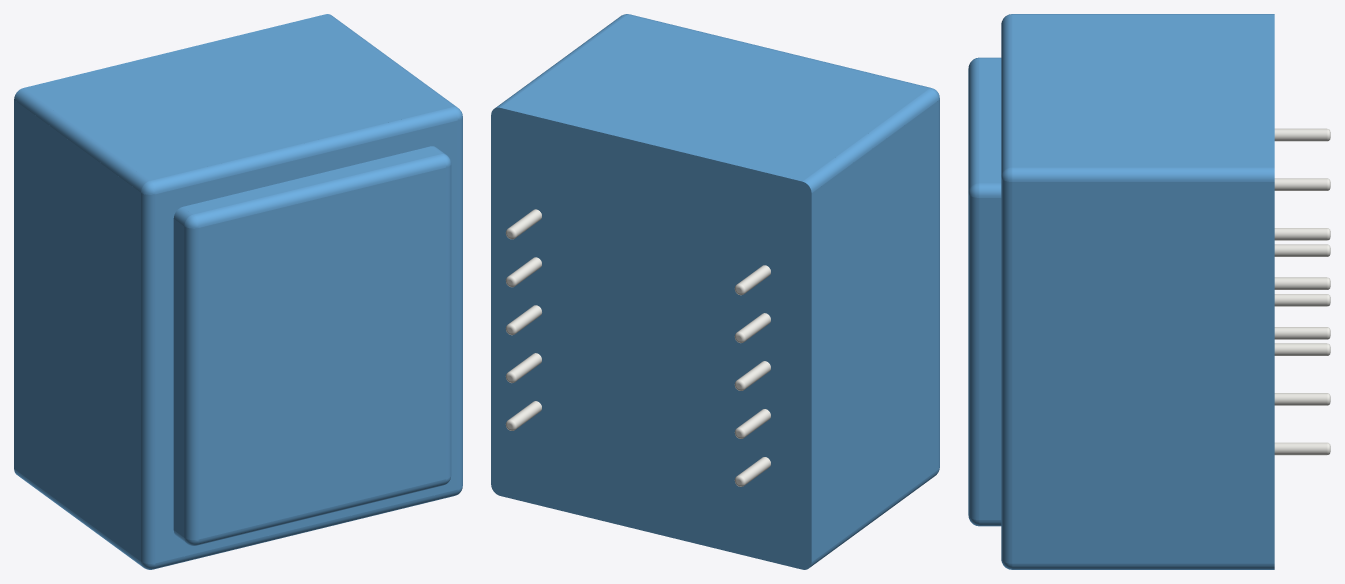
File: Transformer_CHK_EI38-3VA_Neutral.glb
3 views of the same model, side by side, from view 1: azimuth 30°, elevation 25°; view 2: azimuth 150°, elevation 25°; view 3: azimuth 270°, elevation 25° (orthographic). The views are drawn at different scales.
Visible parts, largest first — view 1: Shape_IndexedFaceSet.043, Shape_IndexedFaceSet.069, Shape_IndexedFaceSet.066, Shape_IndexedFaceSet.047, Shape_IndexedFaceSet.056, Shape_IndexedFaceSet.050, Shape_IndexedFaceSet.054, Shape_IndexedFaceSet.049, Shape_IndexedFaceSet.057, Shape_IndexedFaceSet.059, Shape_IndexedFaceSet.073, Shape_IndexedFaceSet.053 (+4 smaller); view 2: Shape_IndexedFaceSet.072, Shape_IndexedFaceSet.069, Shape_IndexedFaceSet.066, Shape_IndexedFaceSet.073, Shape_IndexedFaceSet.056, Shape_IndexedFaceSet.074, Shape_IndexedFaceSet.054; view 3: Shape_IndexedFaceSet.063, Shape_IndexedFaceSet.066, Shape_IndexedFaceSet.052, Shape_IndexedFaceSet.053, Shape_IndexedFaceSet.070, Shape_IndexedFaceSet.045, Shape_IndexedFaceSet.059, Shape_IndexedFaceSet.071, Shape_IndexedFaceSet.054, Shape_IndexedFaceSet.049, Shape_IndexedFaceSet, Shape_IndexedFaceSet.020 (+8 smaller).
Boxes of the visible parts, x1,y1,x2,y2 form: Shape_IndexedFaceSet.043: (198,167,445,539); Shape_IndexedFaceSet.069: (14,100,140,561); Shape_IndexedFaceSet.066: (23,14,451,180); Shape_IndexedFaceSet.047: (155,120,457,563); Shape_IndexedFaceSet.056: (141,193,155,563); Shape_IndexedFaceSet.050: (184,226,198,539); Shape_IndexedFaceSet.054: (150,107,457,194); Shape_IndexedFaceSet.049: (193,154,445,227); Shape_IndexedFaceSet.057: (173,219,184,537); Shape_IndexedFaceSet.059: (183,146,440,214); Shape_IndexedFaceSet.073: (14,88,149,192); Shape_IndexedFaceSet.053: (457,117,462,489); Shape_IndexedFaceSet.072: (491,107,811,569); Shape_IndexedFaceSet.069: (811,100,938,561); Shape_IndexedFaceSet.066: (500,15,928,181); Shape_IndexedFaceSet.073: (803,89,938,192); Shape_IndexedFaceSet.056: (938,99,939,468); Shape_IndexedFaceSet.074: (810,470,938,567); Shape_IndexedFaceSet.054: (627,14,930,88); Shape_IndexedFaceSet.063: (1012,182,1274,563); Shape_IndexedFaceSet.066: (1012,15,1274,167); Shape_IndexedFaceSet.052: (979,198,1001,519); Shape_IndexedFaceSet.053: (1001,178,1012,563); Shape_IndexedFaceSet.070: (1012,167,1274,181); Shape_IndexedFaceSet.045: (968,193,979,519); Shape_IndexedFaceSet.059: (979,58,1001,183); Shape_IndexedFaceSet.071: (1012,563,1274,569); Shape_IndexedFaceSet.054: (1001,15,1012,175); Shape_IndexedFaceSet.049: (968,58,979,192); Shape_IndexedFaceSet: (1274,442,1327,455); Shape_IndexedFaceSet.020: (1274,128,1327,141).
Bounding box in the file's own units: 13.78 × 15.94 × 13.03.
